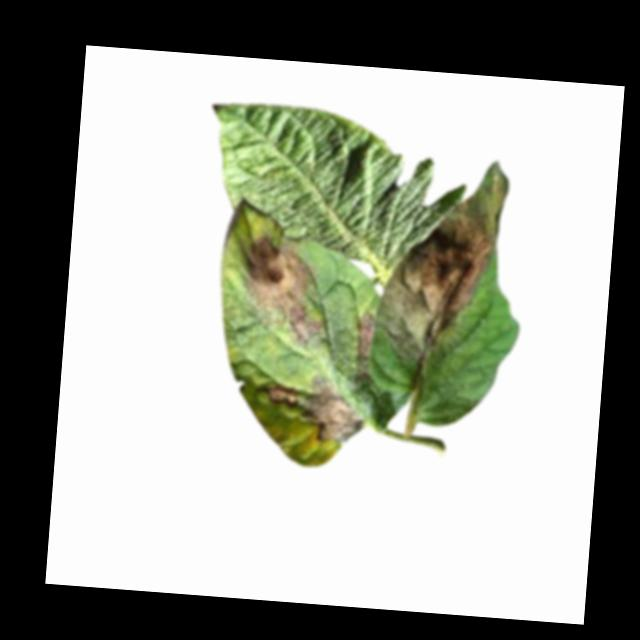Late_blight: (376, 161, 513, 381), (237, 230, 330, 352), (254, 368, 369, 450), (355, 307, 376, 363)
